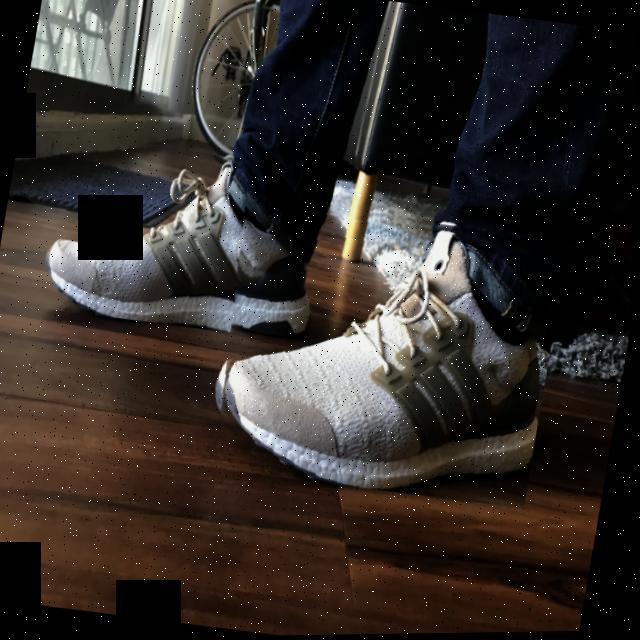shoe: (202, 188, 573, 514), (38, 127, 334, 345)
